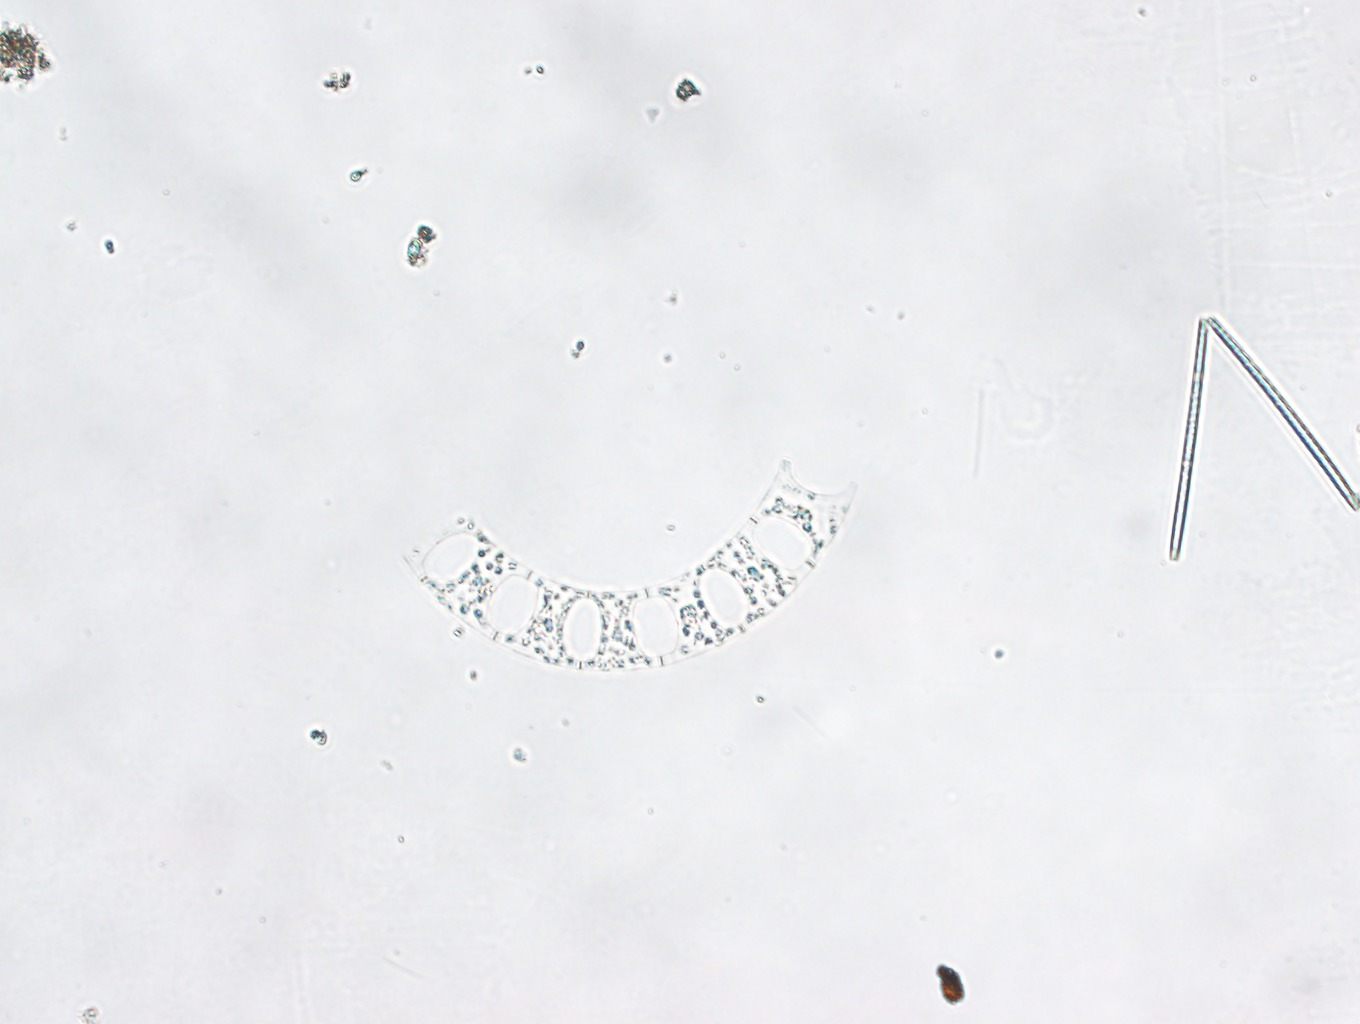eucampia: (399, 456, 857, 675)
thalassionema frauenfeldii: (1166, 317, 1360, 561)
